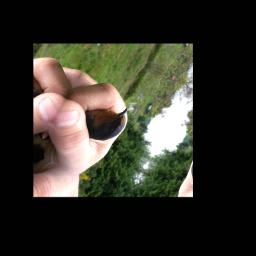Swallow: (73, 92, 135, 150)
